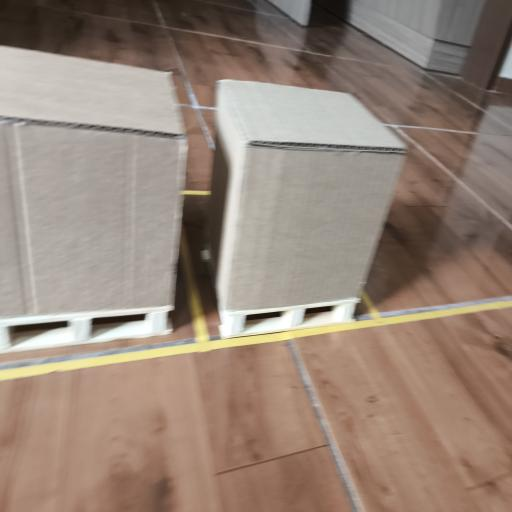pallet: (0, 307, 172, 351), (220, 299, 360, 338)
